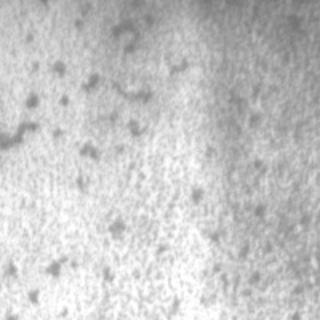pitted_surface: (2, 14, 208, 318), (157, 22, 293, 314)
